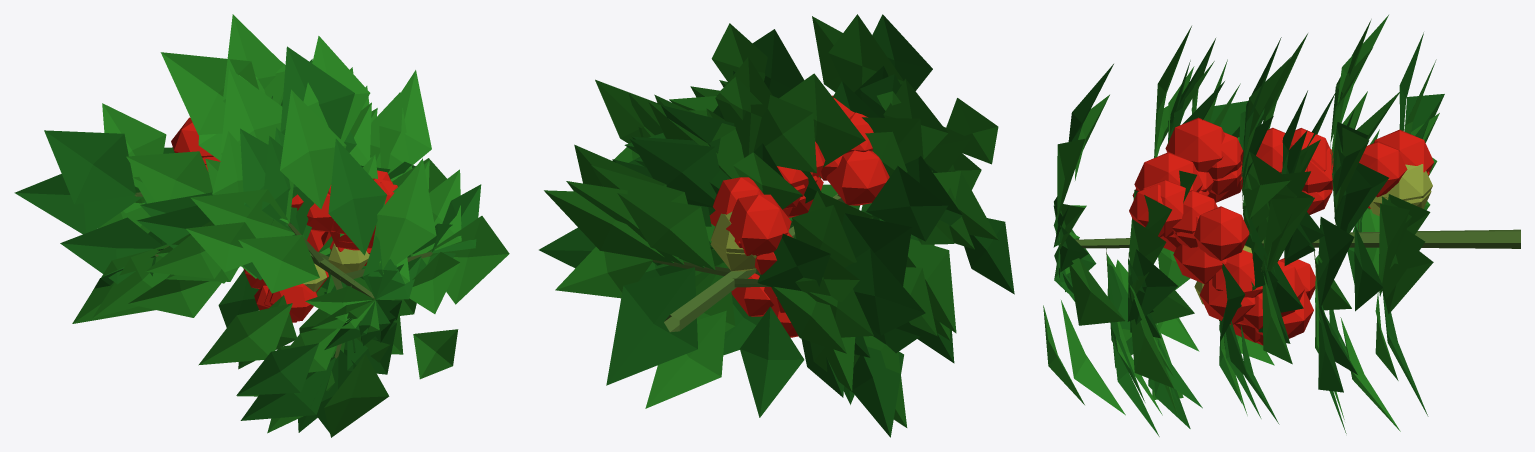
File: healthy_0.obj
The picture shows the model from 3 angles, left to right: view 1: azimuth 30°, elevation 25°; view 2: azimuth 150°, elevation 25°; view 3: azimuth 270°, elevation 25°; orthographic projection. The views are drawn at different scales.
Bounding box in the file's own units: 0.8 × 0.7175 × 0.7424.
